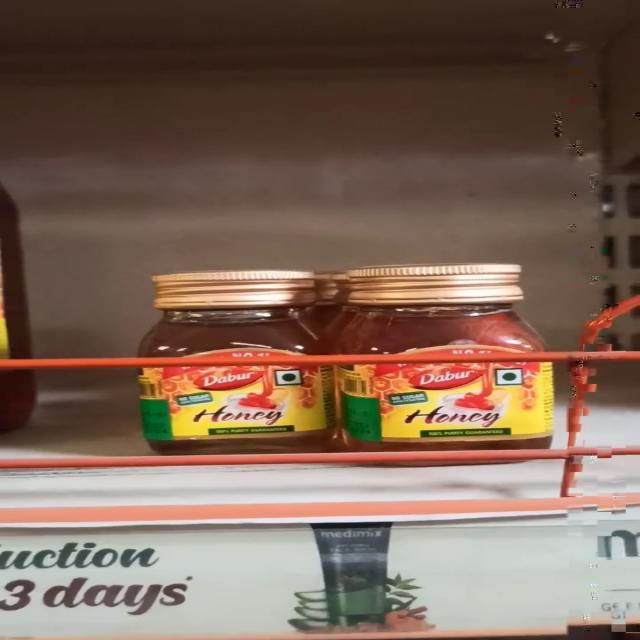Dabur Honey: (342, 268, 554, 460), (134, 273, 336, 462)
